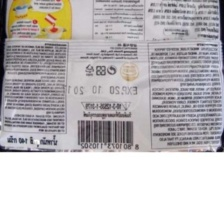snack: (0, 0, 224, 152)
